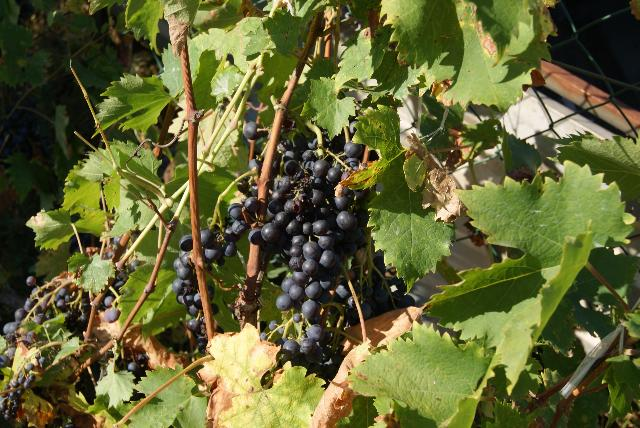grapes: (260, 150, 361, 362), (172, 235, 208, 352), (200, 220, 248, 271)
